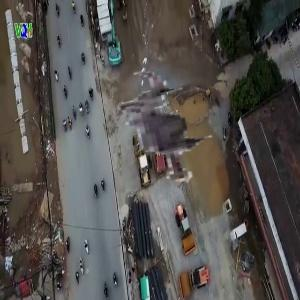drone: (100, 60, 246, 206)
